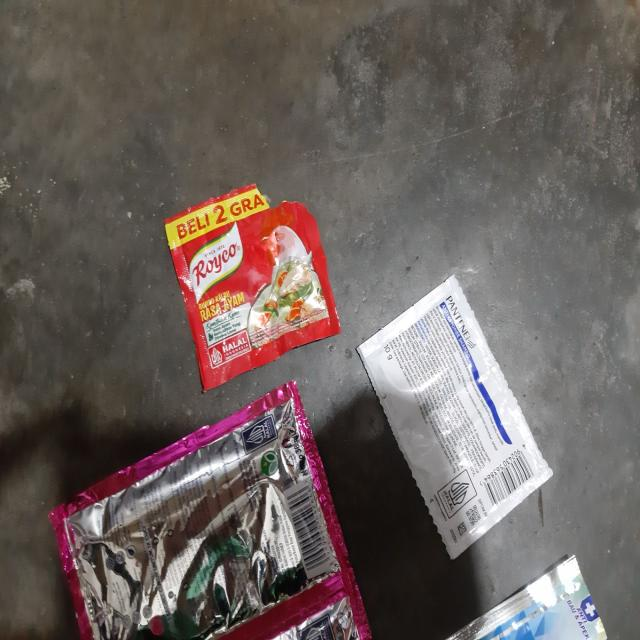KemasanPlastik: (50, 378, 370, 640), (358, 268, 553, 560), (163, 178, 343, 386)
